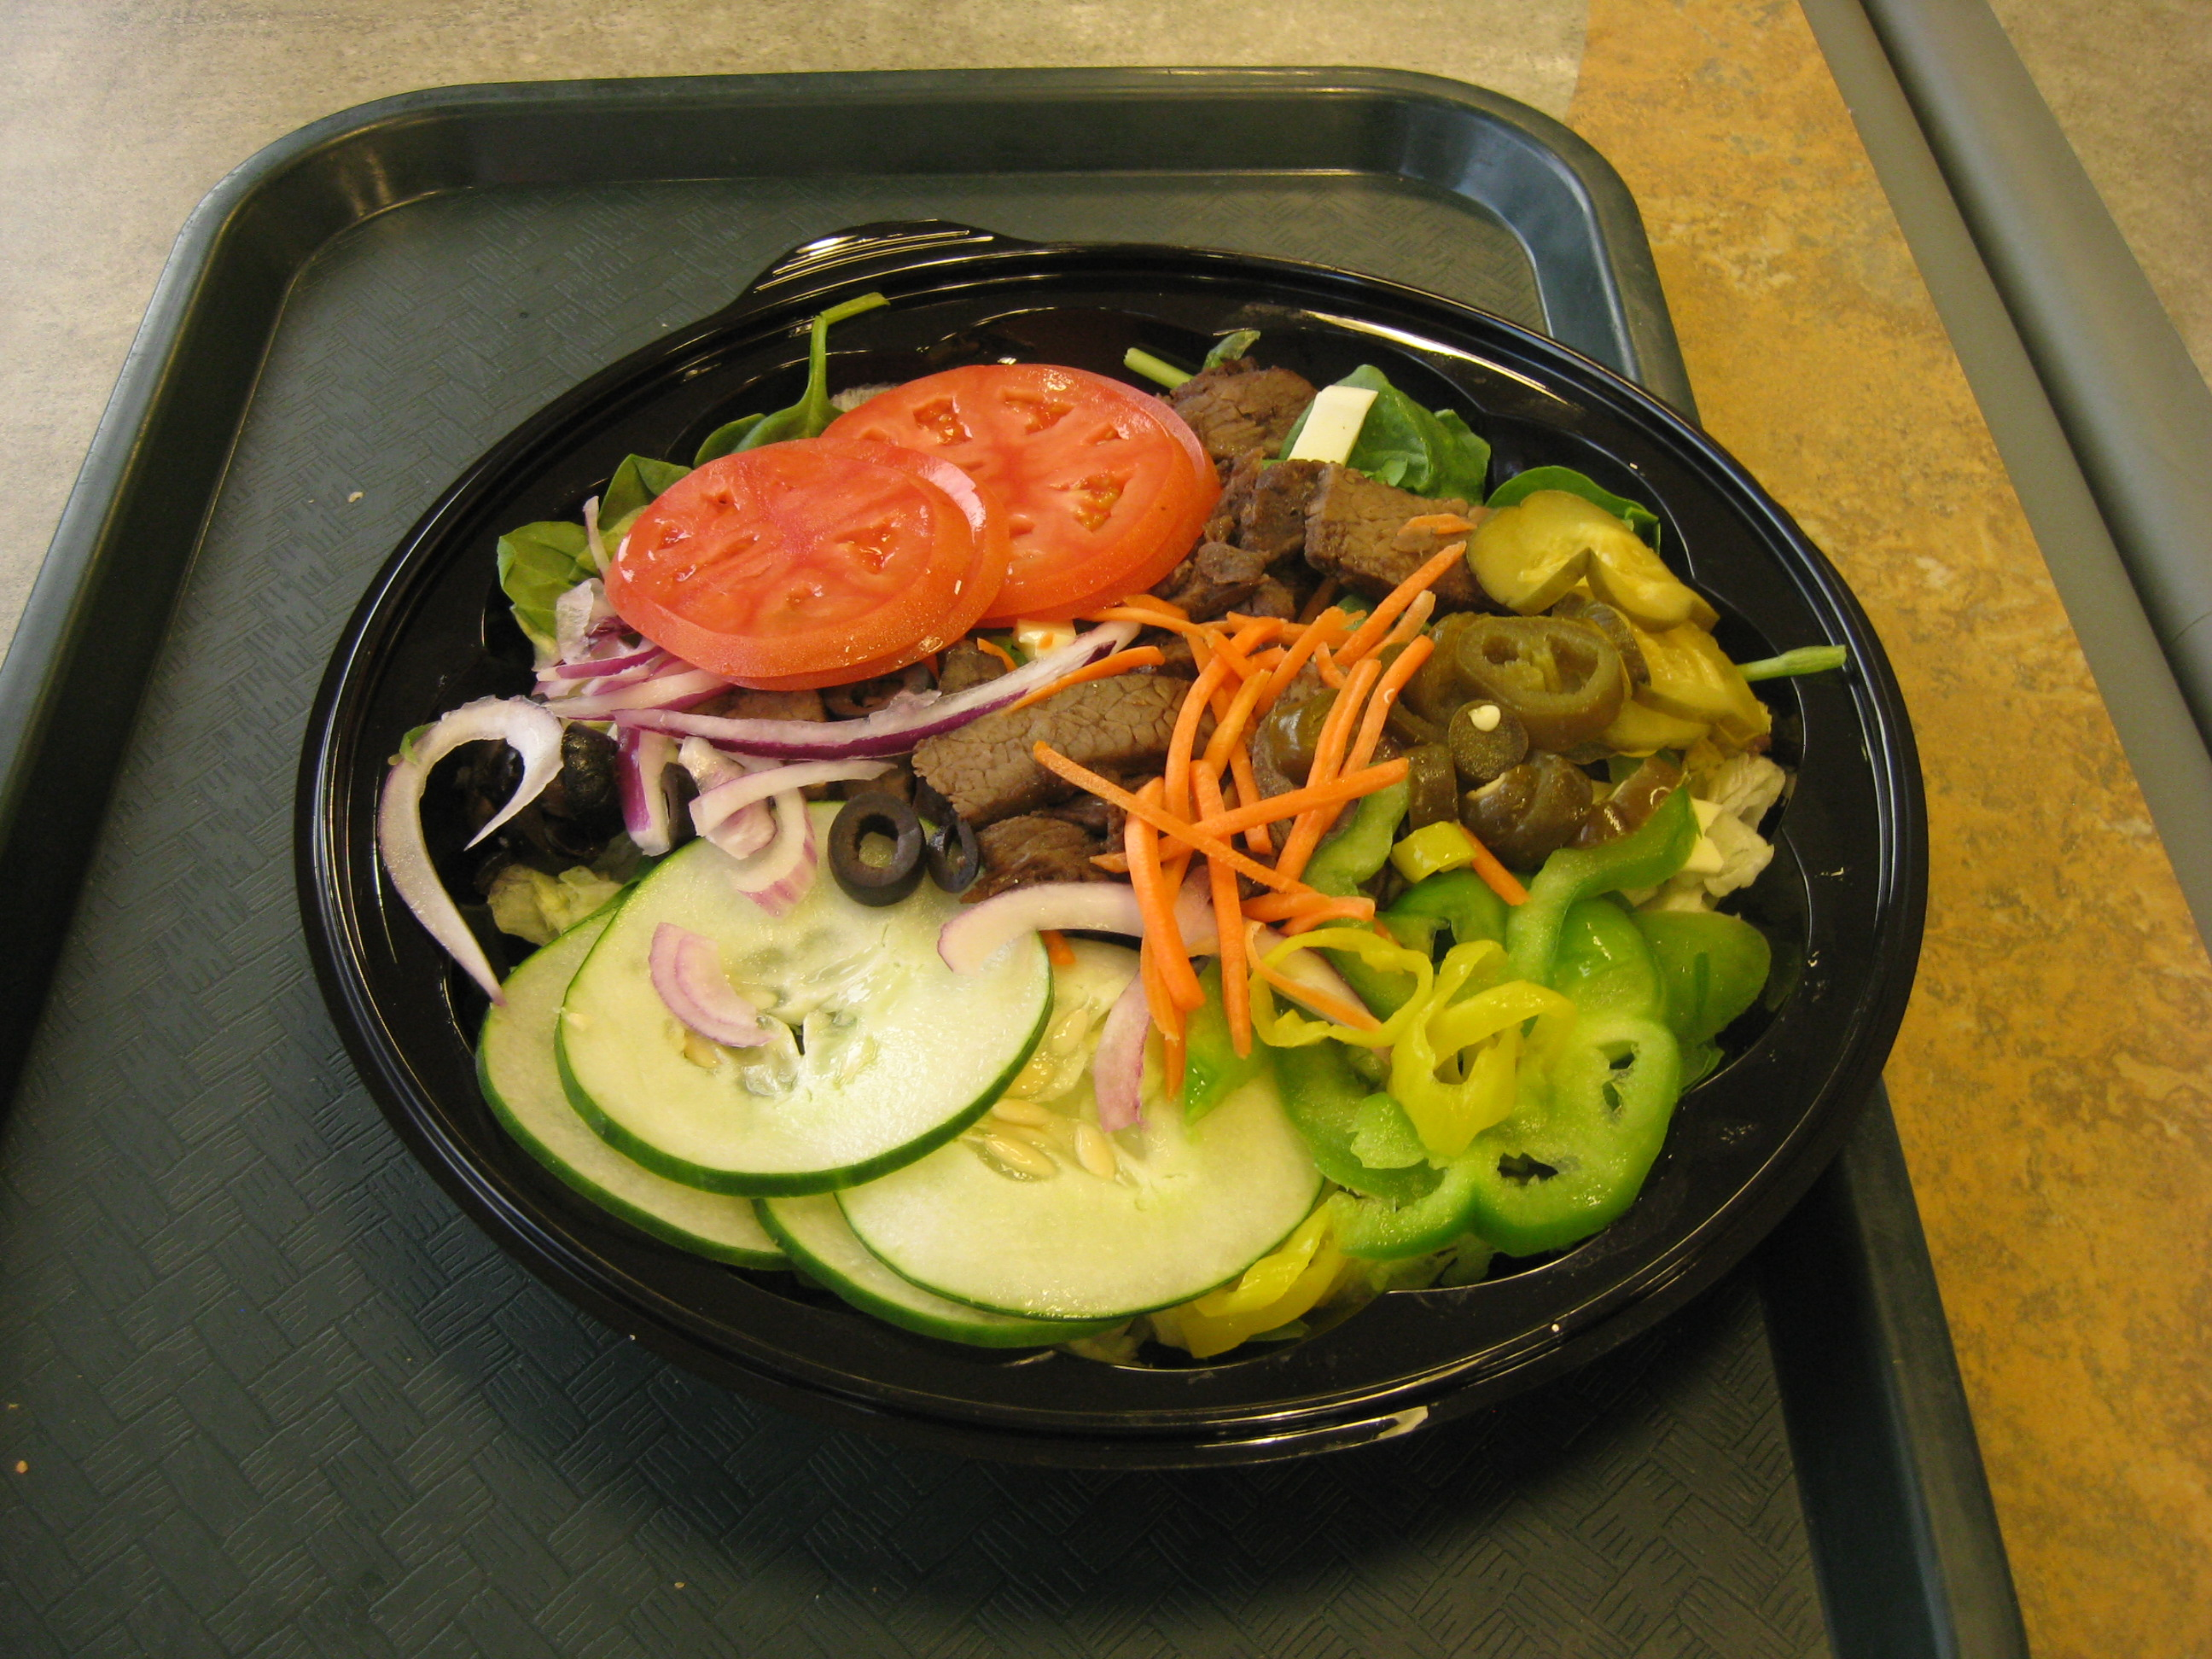salad: (395, 322, 1892, 1372)
